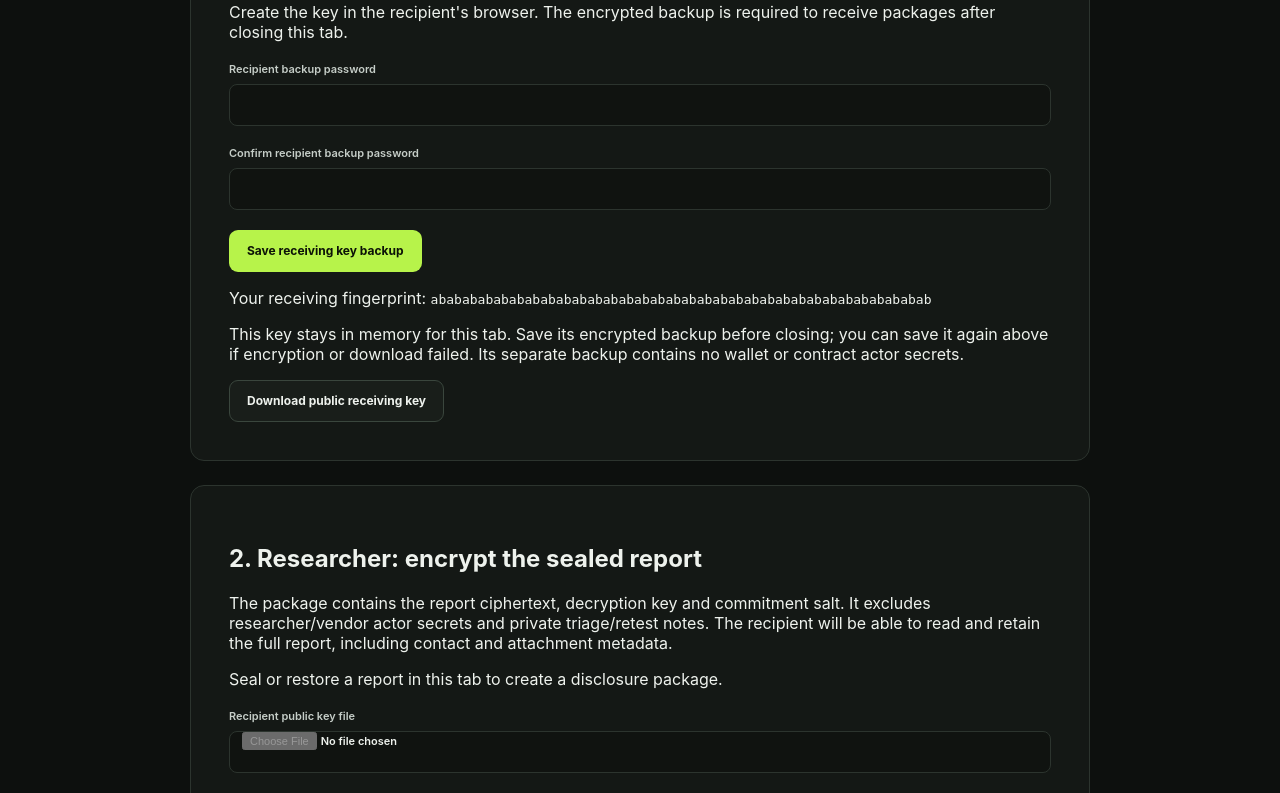
Scenario: reports public-key download failure, cleans the temporary link and retries the retained key
(page scrolled)
Click the button "Download public receiving key". click: (336, 401)
box: left=229, top=380, right=444, bottom=422
Wait 1000 ms
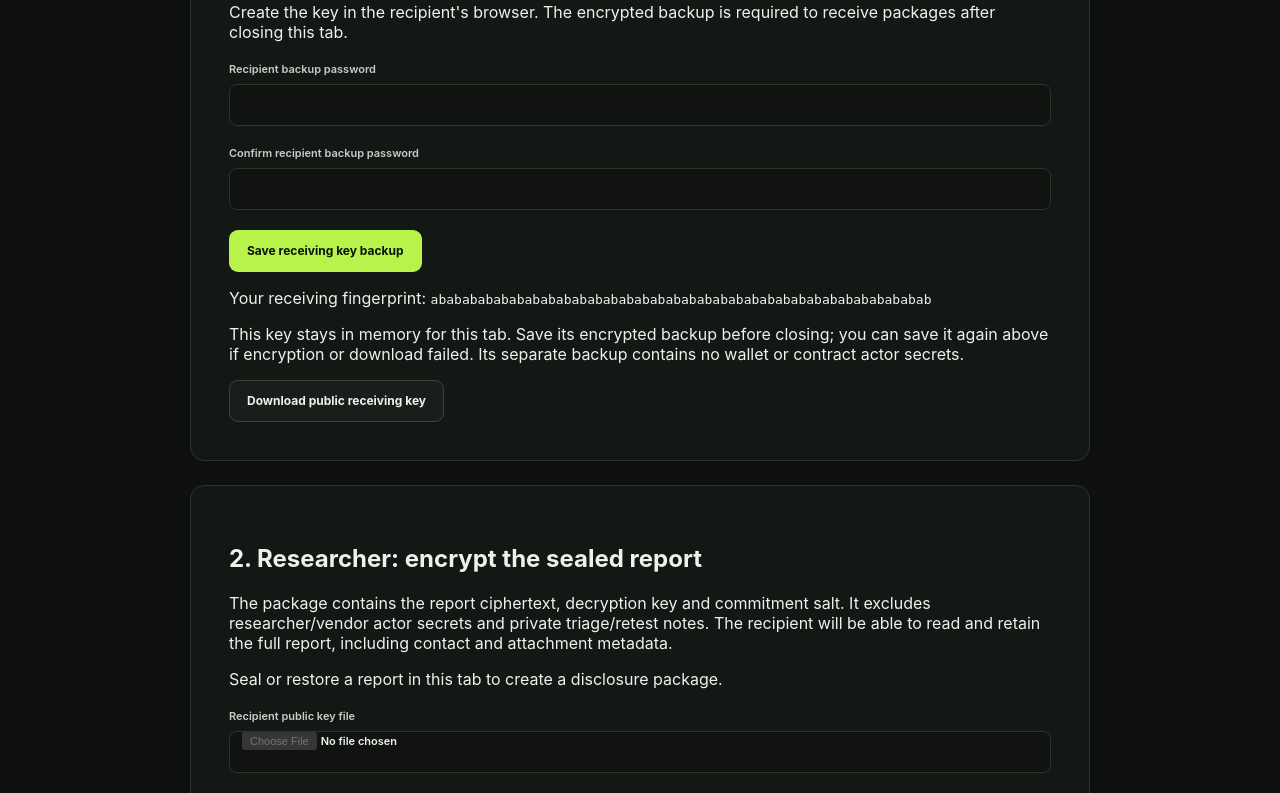
Click the button "Download public receiving key". click: (336, 401)
box: left=229, top=380, right=444, bottom=422
(page scrolled)
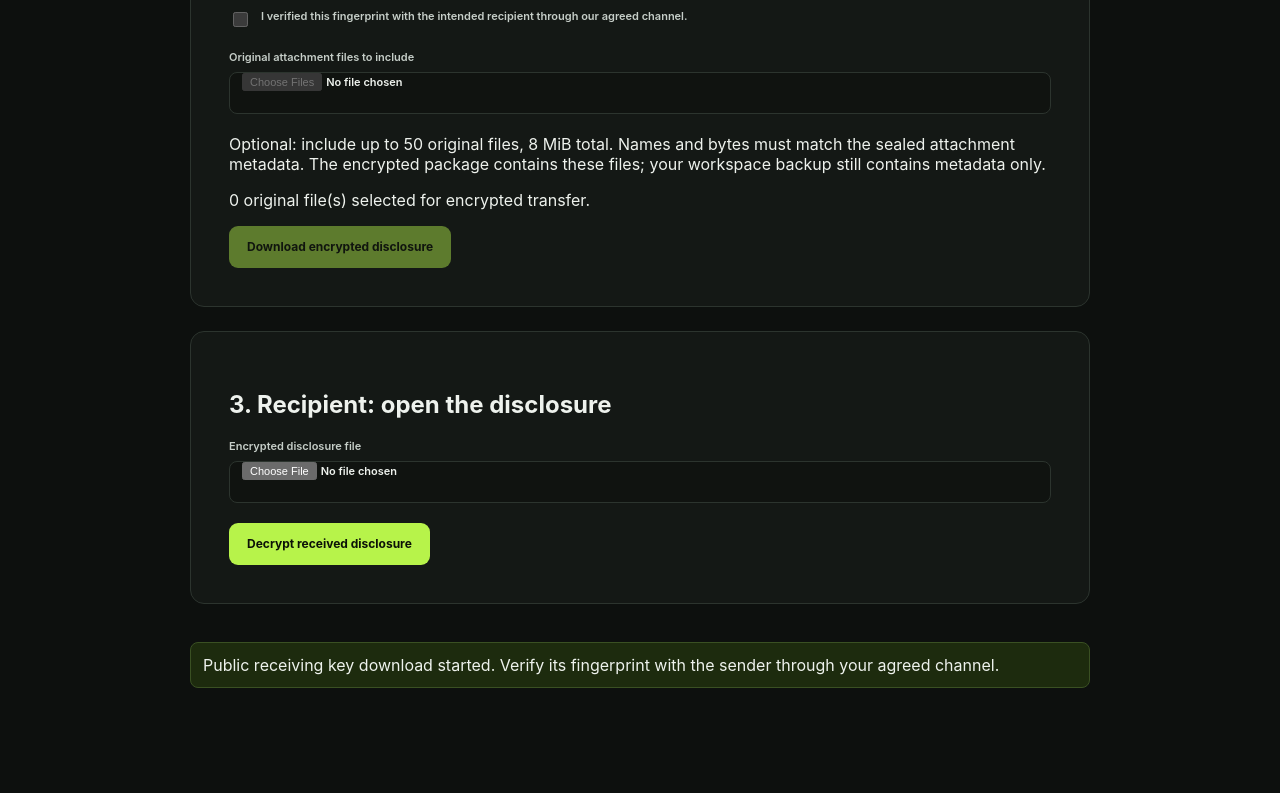
Check: the text "Public receiving key download started" is shown, box left=203, top=655, right=999, bottom=675
